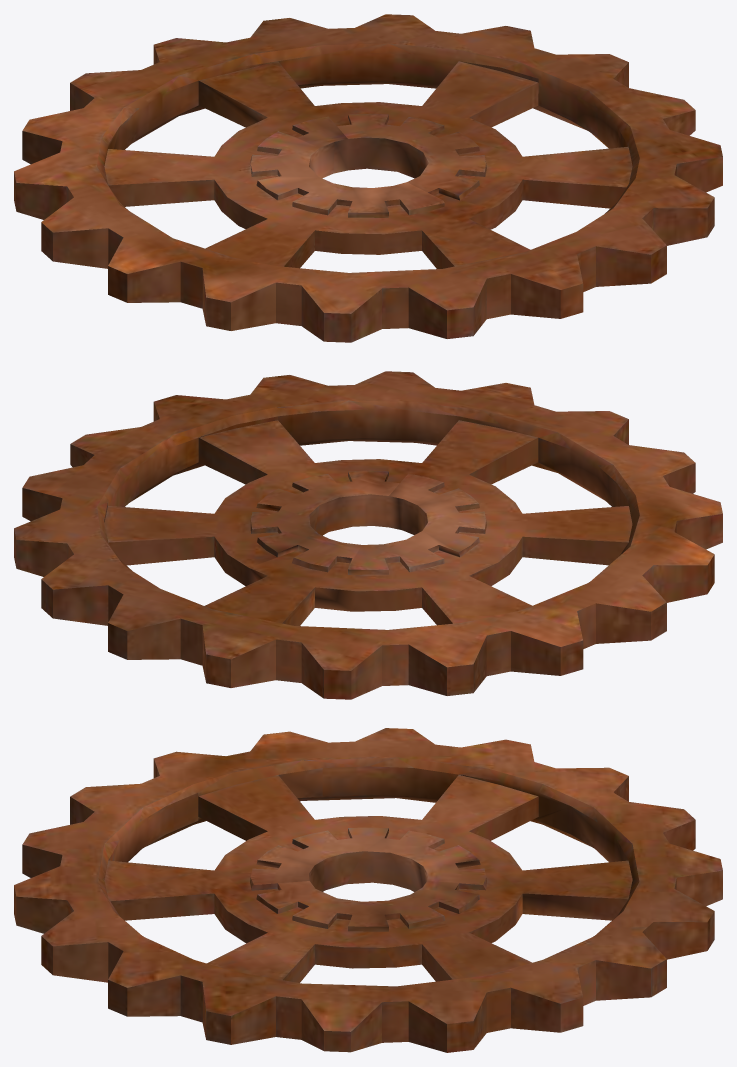
The model's file is steampunk_gear_15.glb.
3 views of the same model, one above another, from view 1: azimuth 30°, elevation 25°; view 2: azimuth 150°, elevation 25°; view 3: azimuth 270°, elevation 25° (orthographic).
Parts seen in each view (by area): view 1: steampunk_gear_15; view 2: steampunk_gear_15; view 3: steampunk_gear_15.
Boxes of the visible parts, x1=… form: steampunk_gear_15: x1=14, y1=14, x2=722, y2=342; steampunk_gear_15: x1=14, y1=371, x2=722, y2=699; steampunk_gear_15: x1=14, y1=728, x2=722, y2=1052.
Size of what is drawn, in the model's own units: 0.1697 by 0.0107 by 0.1697.
Materials: 1 (1 with a texture image).
